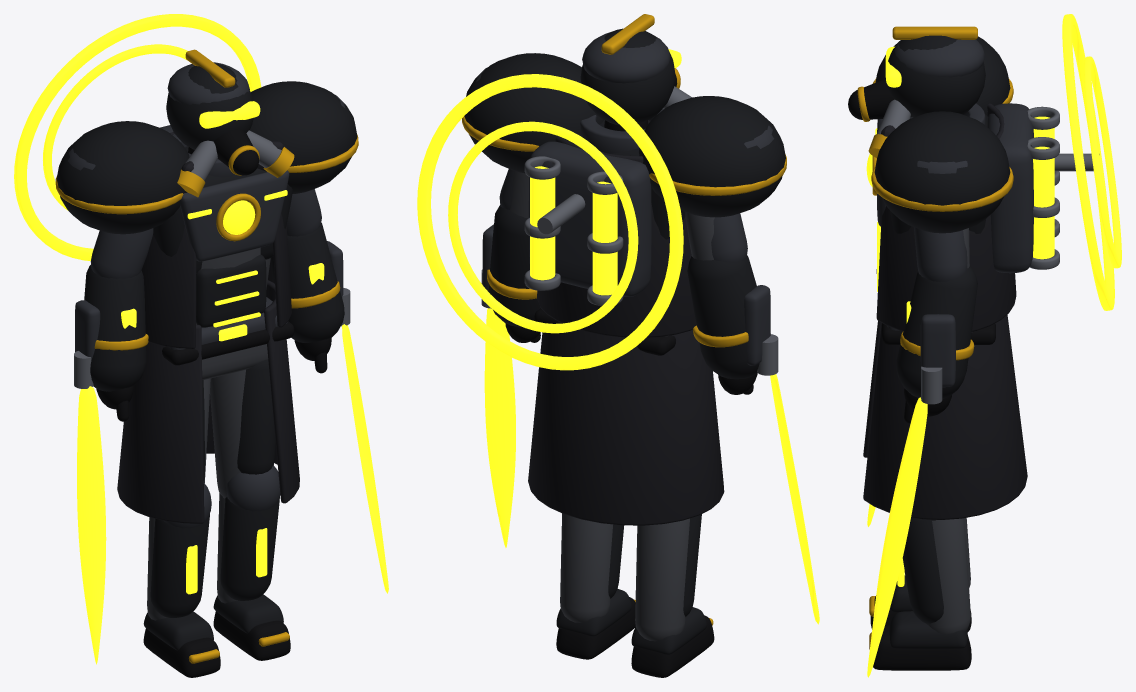
Rendered from scientistmk2.glb.
The picture shows the model from 3 angles, left to right: view 1: azimuth 30°, elevation 25°; view 2: azimuth 150°, elevation 25°; view 3: azimuth 270°, elevation 25°; orthographic projection. The views are drawn at different scales.
Parts seen in each view (by area): view 1: Hips_Belt, Chest_Armor, RightArm_Armor, Head_Helmet, LeftArm_Armor, Back_EnergyRings, RightBlade, LeftLeg_Armor, LeftUpLeg_Armor, RightForeArm_Armor, RightLeg_Armor, LeftForeArm_Armor (+7 smaller); view 2: Hips_Belt, Chest_Armor, Back_EnergyRings, RightArm_Armor, LeftArm_Armor, Head_Helmet, RightLeg_Armor, RightForeArm_Armor, LeftLeg_Armor, LeftBlade, RightBlade, LeftForeArm_Armor (+2 smaller); view 3: Hips_Belt, Chest_Armor, LeftArm_Armor, Head_Helmet, Back_EnergyRings, LeftBlade, LeftLeg_Armor, LeftForeArm_Armor, LeftFoot_Boot, RightArm_Armor, RightFoot_Boot, LeftHand_Glove.
Part boxes in pixels (bbox=[...]): Hips_Belt: bbox=[117, 280, 299, 523]; Chest_Armor: bbox=[141, 125, 292, 348]; RightArm_Armor: bbox=[55, 121, 189, 278]; Head_Helmet: bbox=[166, 49, 294, 197]; LeftArm_Armor: bbox=[249, 81, 358, 236]; Back_EnergyRings: bbox=[14, 14, 261, 260]; RightBlade: bbox=[74, 300, 106, 664]; LeftLeg_Armor: bbox=[217, 465, 280, 603]; LeftUpLeg_Armor: bbox=[210, 359, 275, 498]; RightForeArm_Armor: bbox=[84, 265, 148, 391]; RightLeg_Armor: bbox=[147, 482, 211, 620]; LeftForeArm_Armor: bbox=[270, 223, 344, 342]; Hips_Belt: bbox=[528, 308, 724, 525]; Chest_Armor: bbox=[524, 108, 696, 337]; Back_EnergyRings: bbox=[417, 74, 683, 370]; RightArm_Armor: bbox=[639, 96, 786, 262]; LeftArm_Armor: bbox=[462, 53, 604, 217]; Head_Helmet: bbox=[580, 14, 692, 125]; RightLeg_Armor: bbox=[635, 514, 701, 641]; RightForeArm_Armor: bbox=[687, 255, 759, 379]; LeftLeg_Armor: bbox=[560, 513, 624, 622]; LeftBlade: bbox=[481, 224, 515, 547]; RightBlade: bbox=[744, 285, 819, 624]; LeftForeArm_Armor: bbox=[487, 205, 540, 327]; Hips_Belt: bbox=[863, 314, 1027, 519]; Chest_Armor: bbox=[866, 103, 1059, 331]; LeftArm_Armor: bbox=[871, 111, 1013, 281]; Head_Helmet: bbox=[848, 26, 985, 158]; Back_EnergyRings: bbox=[1054, 14, 1121, 310]; LeftBlade: bbox=[867, 314, 955, 677]; LeftLeg_Armor: bbox=[897, 517, 970, 634]; LeftForeArm_Armor: bbox=[896, 266, 977, 398]; LeftFoot_Boot: bbox=[869, 611, 971, 670]; RightArm_Armor: bbox=[872, 36, 1013, 115]; RightFoot_Boot: bbox=[869, 575, 971, 631]; LeftHand_Glove: bbox=[904, 388, 951, 423].
Bounding box in the file's own units: 1.01 × 1.92 × 0.7685.
